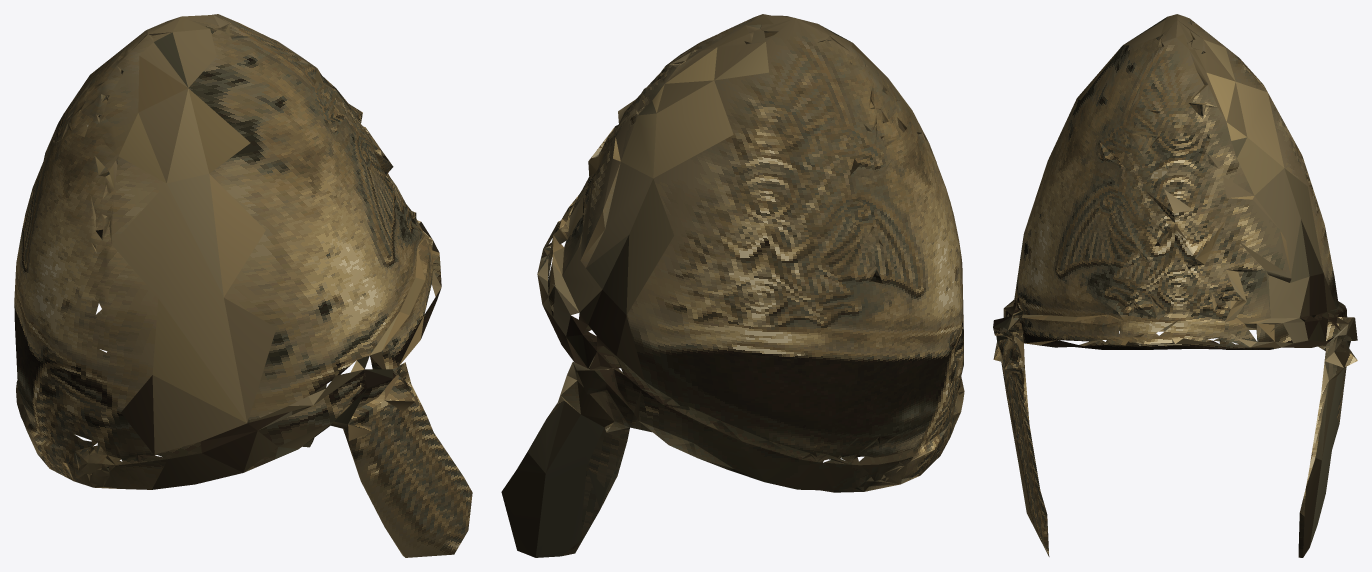
File: culto.glb
3 renders of one model, left to right at view 1: azimuth 30°, elevation 25°; view 2: azimuth 150°, elevation 25°; view 3: azimuth 270°, elevation 25°, orthographic. The views are drawn at different scales.
Parts seen in each view (by area): view 1: armadura.casco.culto; view 2: armadura.casco.culto; view 3: armadura.casco.culto.
Part boxes in pixels (<box>): armadura.casco.culto: <box>14,14,472,557</box>; armadura.casco.culto: <box>501,14,964,557</box>; armadura.casco.culto: <box>993,14,1357,557</box>.
Size of the model in its own units: 0.2257 by 0.2961 by 0.2153.
Materials: 1 (1 with a texture image).
